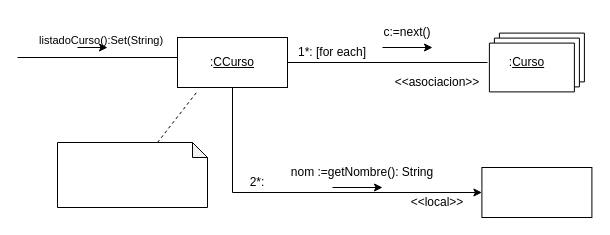
Some shapes in this 610 by 235 pixel diagram are drawn without their labels. Each missing label, with the centre of its shape:
Agrega nom al resultado: (x=132, y=175)
C: CCurso: (x=536, y=192)
